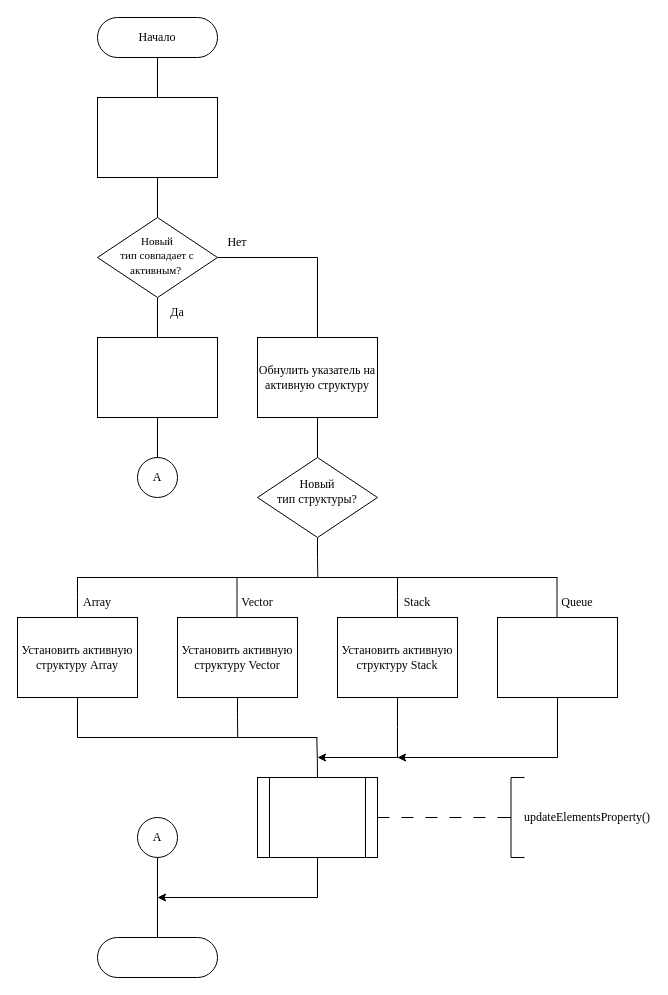
Some shapes in this 668 by 995 pixel diagram are drawn without their labels. The shapes that lost their labels are listed below. From the top down, each one's centre as x and y in pixels, then its label:
At (157,137): "Определить новй тип структуры".
At (157,377): "Завершить процедуру".
At (557,657): "Установить активную структуру Queue".
At (317,817): "Вызвать функцию обновляющую интерфейс".
At (157,957): "Конец".
